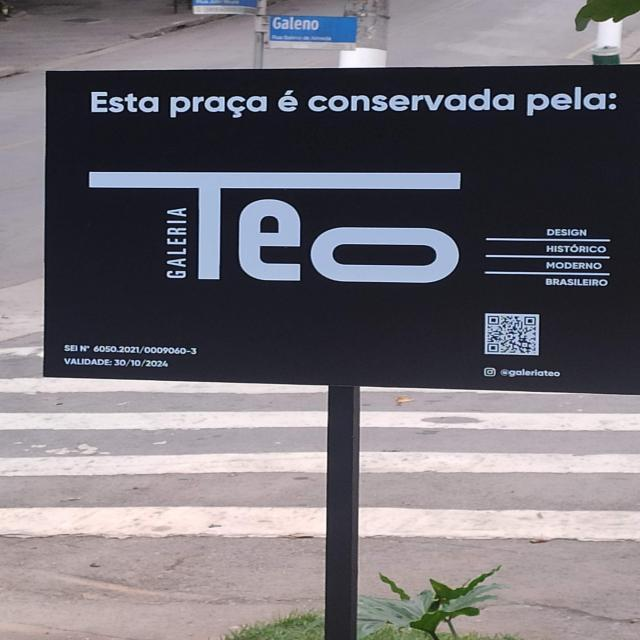qr-code: (488, 315, 536, 354)
